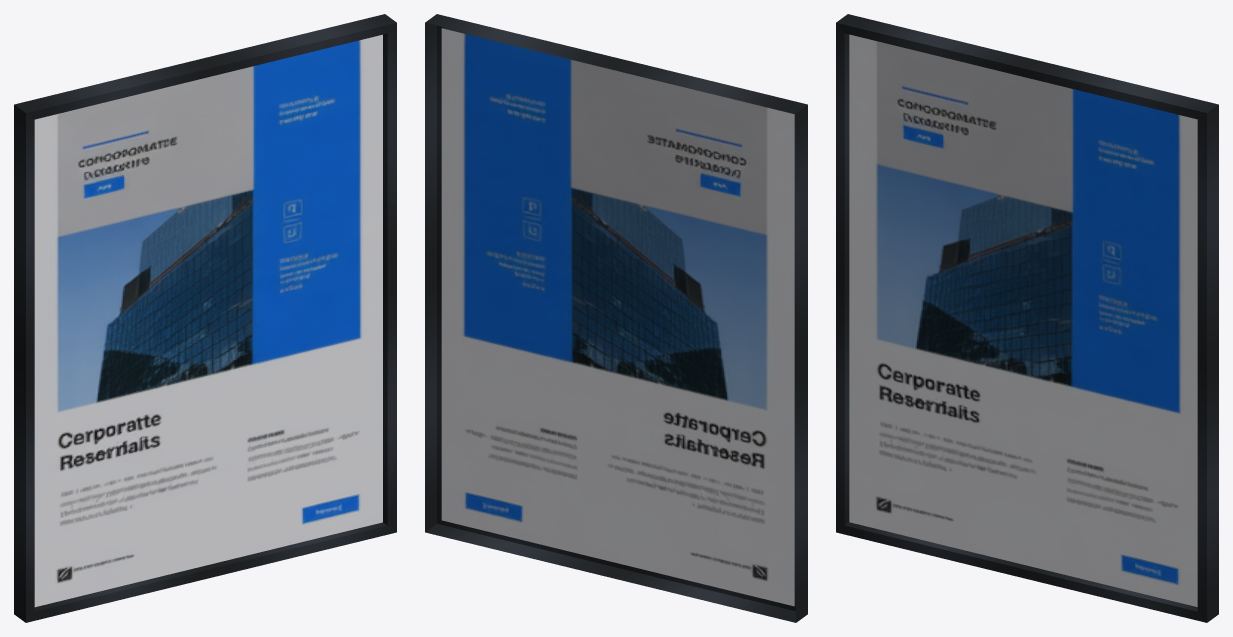
Rendered from wallart02.glb.
3 views of the same model, side by side, from view 1: azimuth 30°, elevation 25°; view 2: azimuth 150°, elevation 25°; view 3: azimuth 330°, elevation 25° (orthographic).
Parts seen in each view (by area): view 1: art01.001; view 2: art01.001; view 3: art01.001.
Boxes of the visible parts, x1=… form: art01.001: x1=14, y1=14, x2=396, y2=622; art01.001: x1=425, y1=14, x2=807, y2=622; art01.001: x1=836, y1=14, x2=1218, y2=622.
Bounding box in the file's own units: 1.07 × 1.4 × 0.0591.
Materials: 1 (1 with a texture image).
